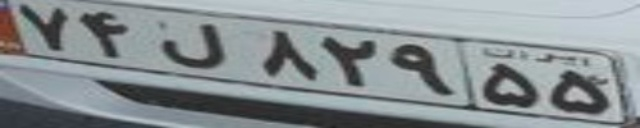2: (322, 36, 381, 88)
4: (78, 11, 133, 58)
5: (473, 62, 539, 107), (546, 69, 610, 115)
7: (14, 2, 70, 53)
8: (256, 29, 319, 80)
9: (388, 41, 454, 96)
lam: (158, 21, 226, 70)
